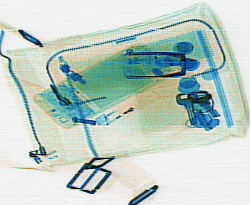lighter: (93, 88, 158, 128)
